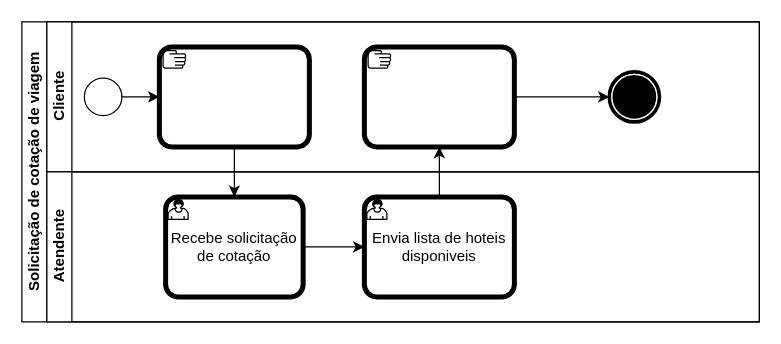
The diagram is 781 pixels wide and 344 high, and some of its shapes have lost their labels. Each missing label, with the centre of its shape:
Recebe lista de hoteis: (x=438, y=96)
Solicita cotação de viagem: (x=233, y=96)
